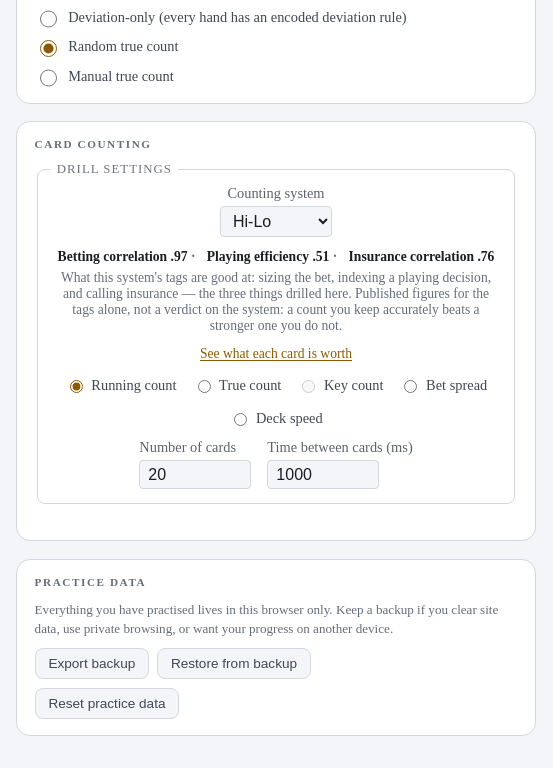
SettingsPageComponent › resetting practice data › asks before clearing anything
(page scrolled)
Click the button "Reset practice data" at (107, 704), box [35,688,179,719]
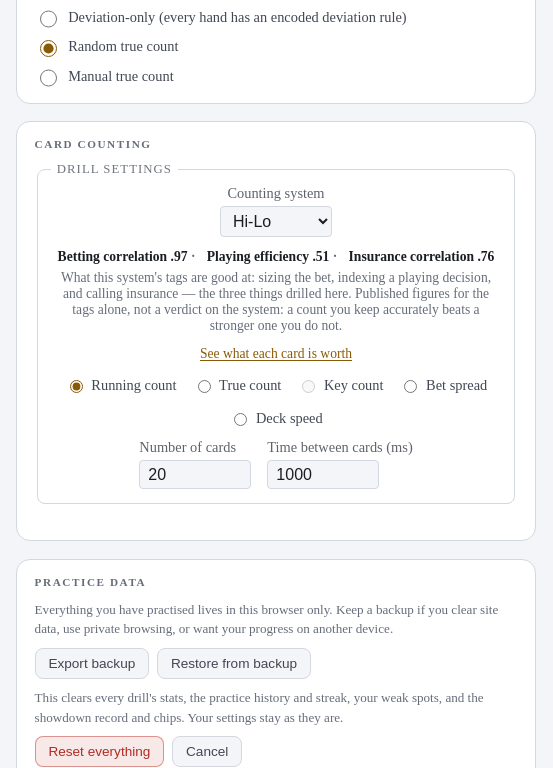
Click the button "Cancel" at (207, 752), box [172,736,242,767]
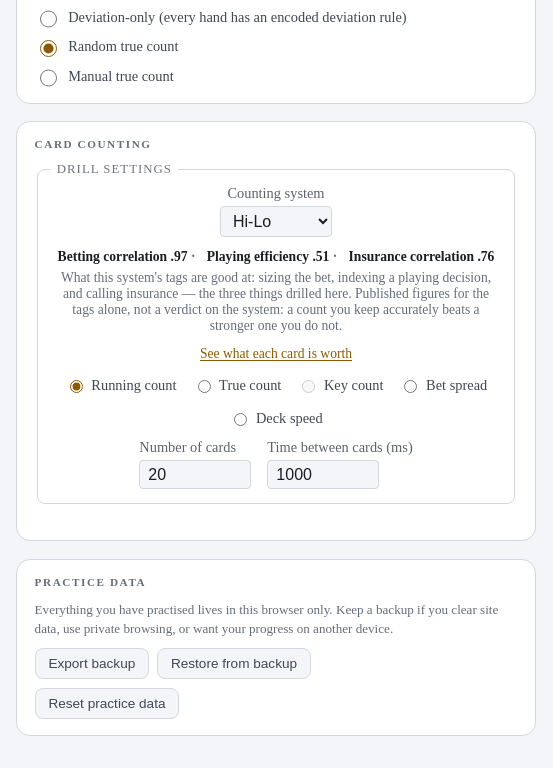
Expected: the button with class "settings__danger" is gone
